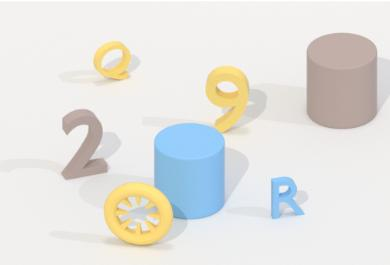0-KhoiTru: (299, 28, 384, 135), (152, 120, 228, 225)
0-TronLo: (100, 180, 175, 250)
2: (55, 104, 115, 183)
9: (204, 62, 255, 137)
Q: (90, 37, 134, 85)
R: (268, 173, 307, 224)
